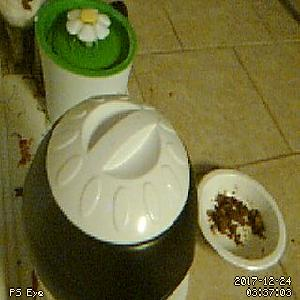cat: (1, 1, 52, 102)
fountain: (33, 1, 136, 78)
